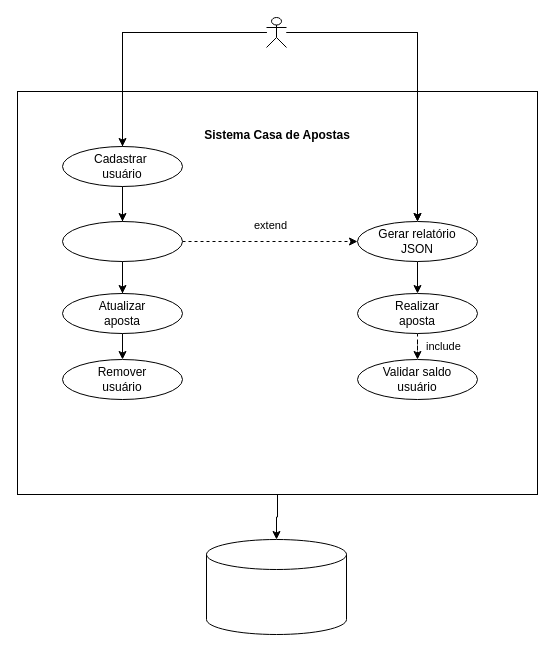
Image size: 555x652. Some labels were removed from this diagram. Each missing label, with the box of its shape:
Banco de Dados Oracle – TB_USUARIO / TB_APOSTA: (206, 538, 346, 634)
Listar usuário: (62, 220, 182, 262)
Usuário: (266, 16, 286, 48)
